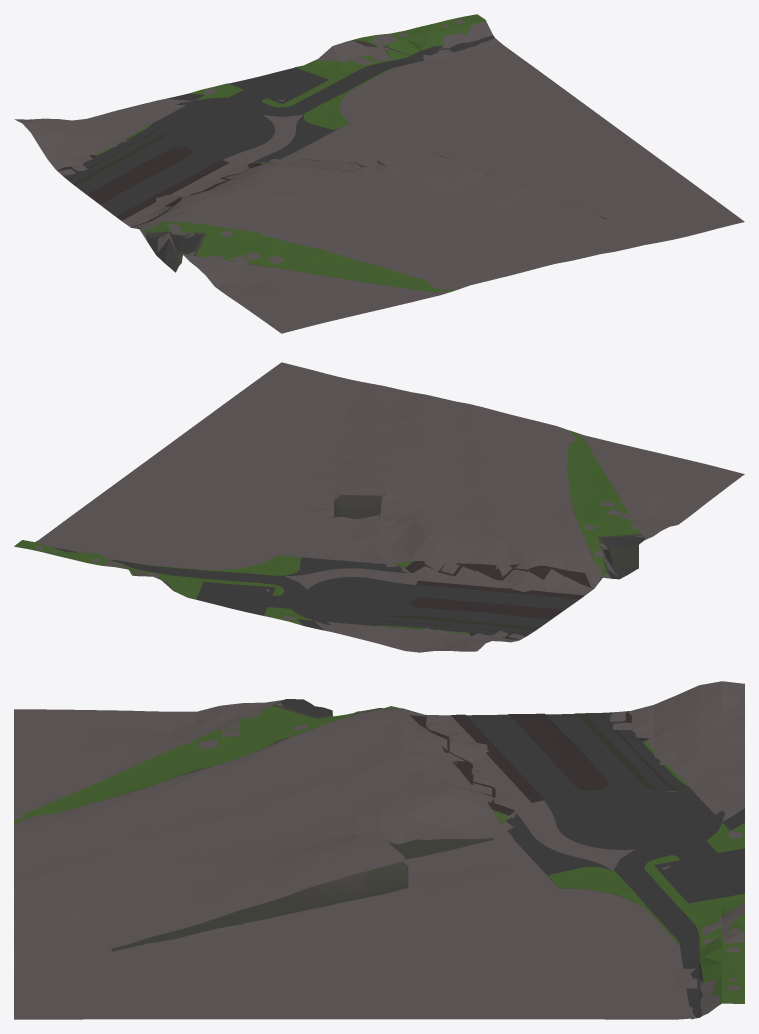
3 views of the same model, one above another, from view 1: azimuth 30°, elevation 25°; view 2: azimuth 150°, elevation 25°; view 3: azimuth 270°, elevation 25° (orthographic). The views are drawn at different scales.
Visible parts, largest first — view 1: c_m18_p03; view 2: c_m18_p03; view 3: c_m18_p03.
Boxes of the visible parts, bbox=[...] form: c_m18_p03: bbox=[14, 14, 744, 333]; c_m18_p03: bbox=[14, 362, 744, 652]; c_m18_p03: bbox=[14, 681, 744, 1019].
Bounding box in the file's own units: 128 × 9.88 × 128.
